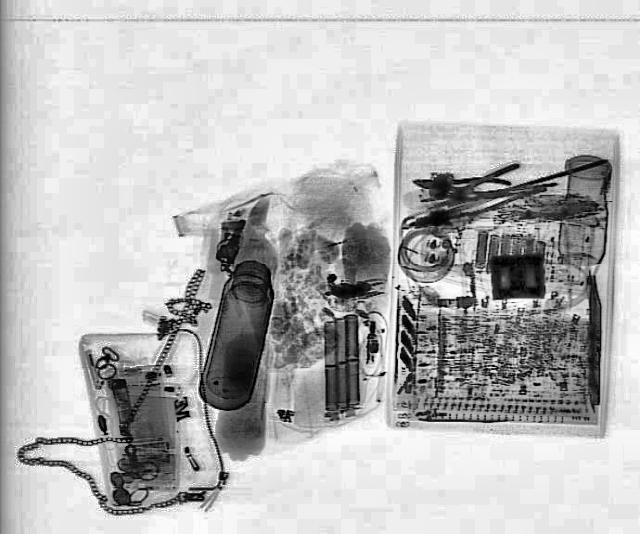Pliers: (411, 170, 511, 200)
